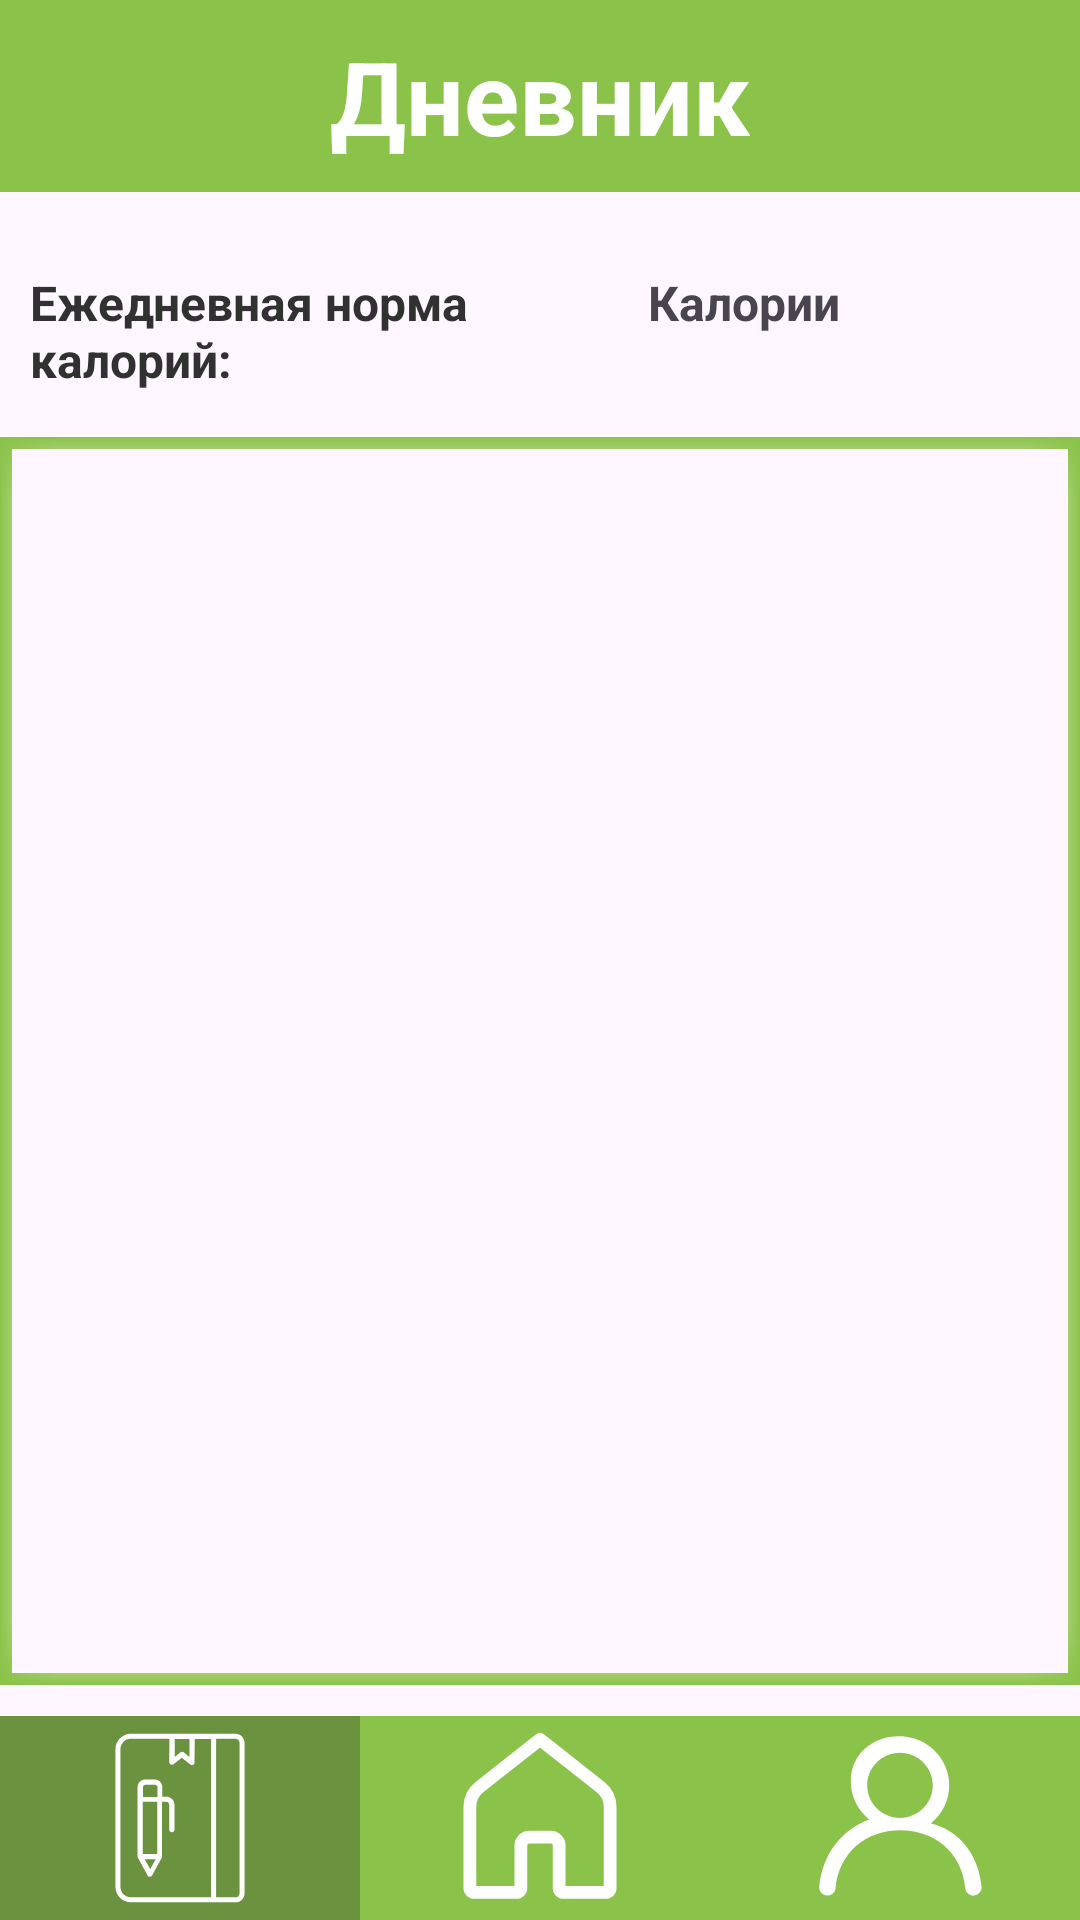

Screen size 1080 × 1920. Icon name, then its box in pixels as (x1, y1, x2, y2):
diary: (115, 1733, 245, 1903)
home: (463, 1733, 617, 1899)
profile: (819, 1736, 982, 1896)
